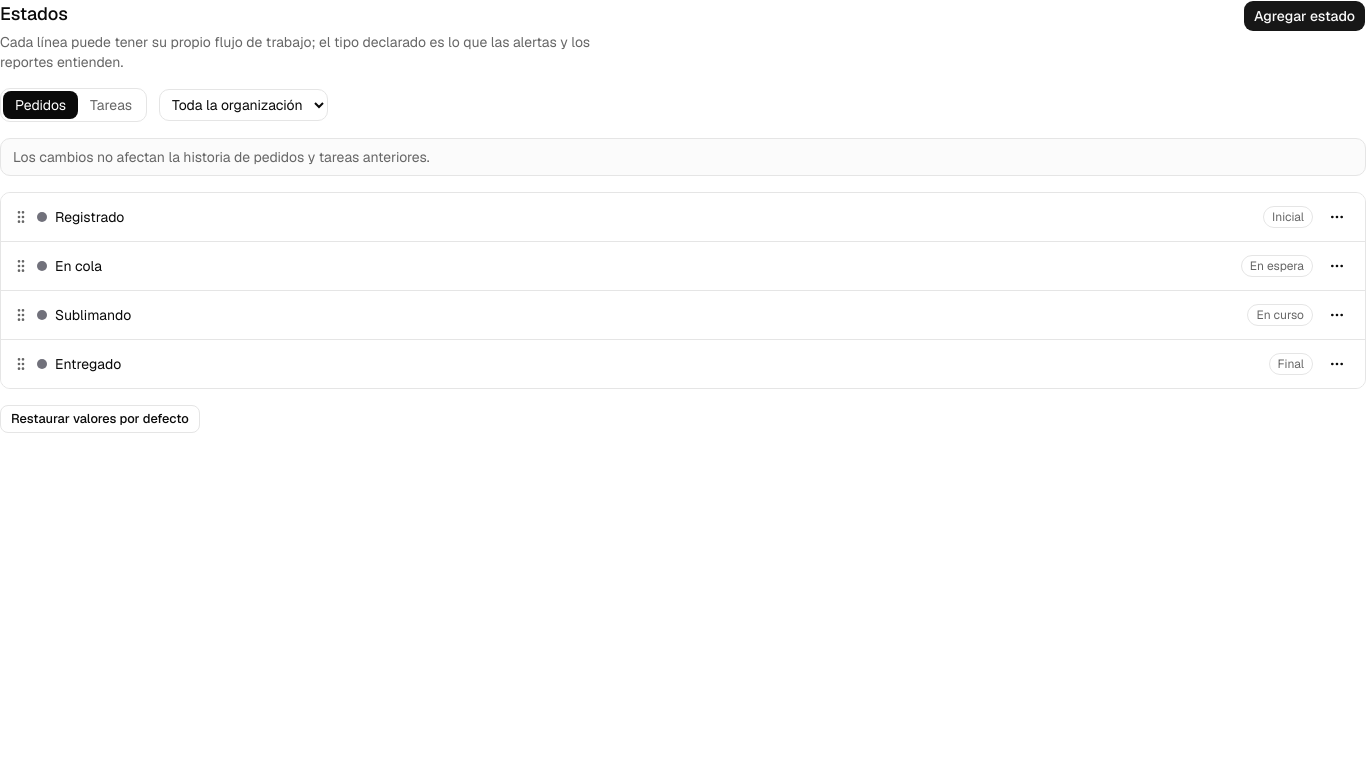
Scenario: StatusesSection · editar y agregar en un diálogo › «Editar» abre el diálogo con sus valores y «Guardar cambios» lo actualiza
This screenshot has width=1366, height=768.
Click the button named "Acciones de En cola" at (1337, 266), box [1321,250,1353,282]
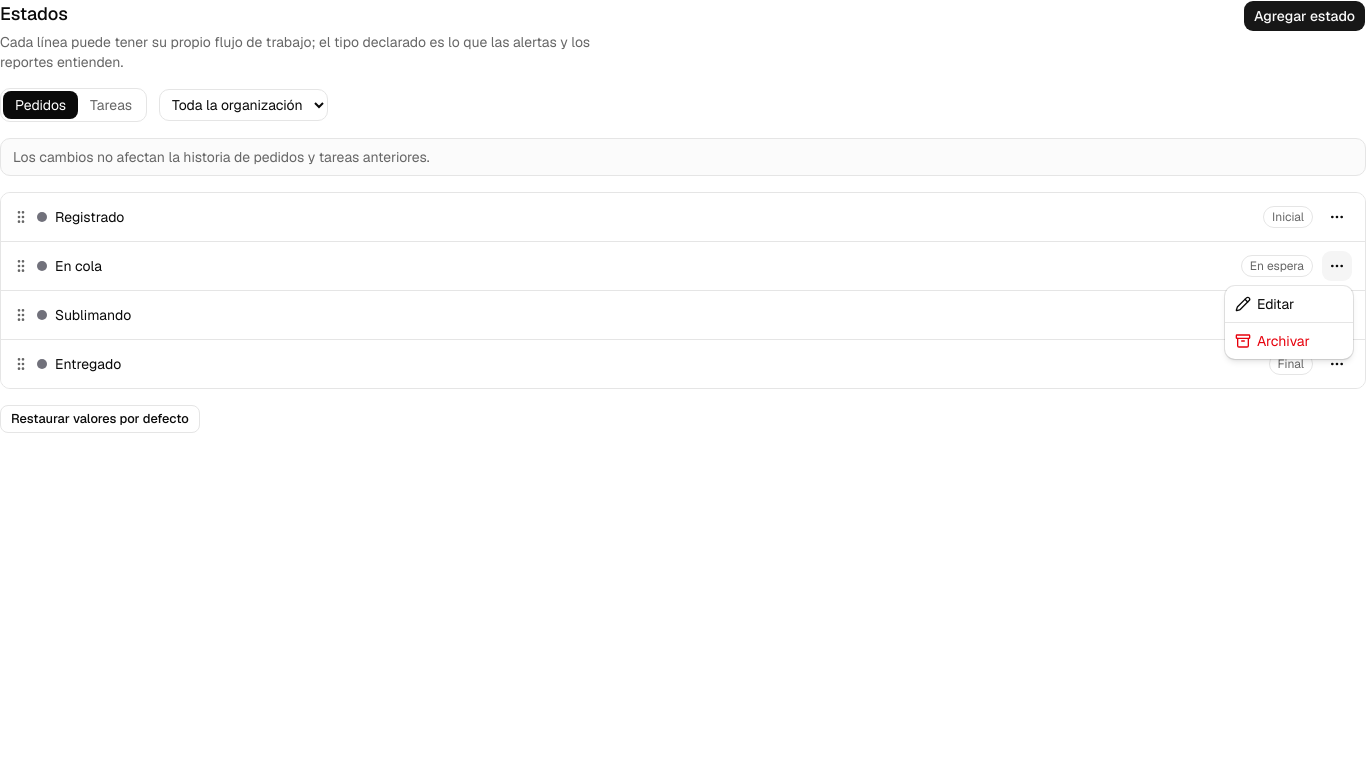
Click the menu item "Editar" at (1265, 304), box [1235,295,1294,313]
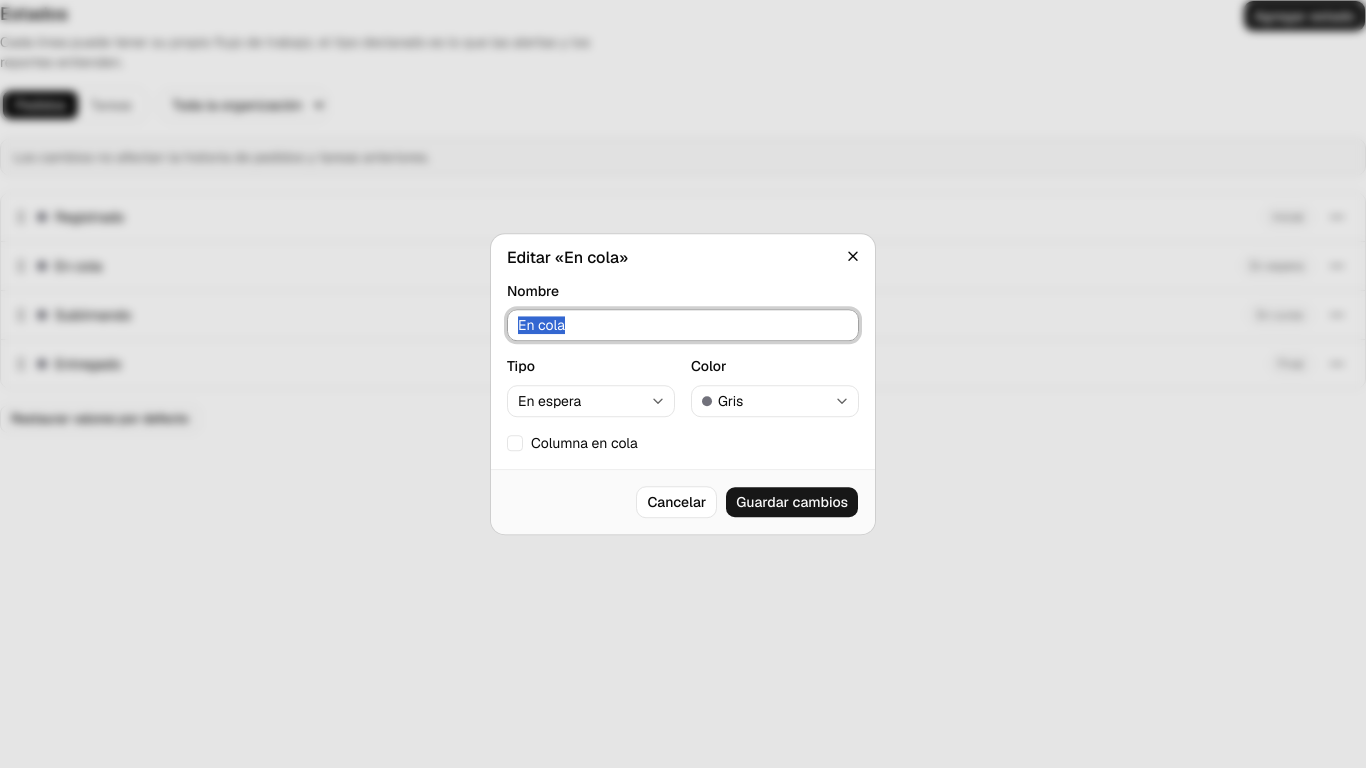
Now the field labelled "Nombre" holds "En cola"
Now the dropdown named "Tipo" reads "En espera", box [507,385,675,417]
Replace the text in the field labelled "Nombre" with "En cola de impresión" at (683, 326), box [507,310,859,342]
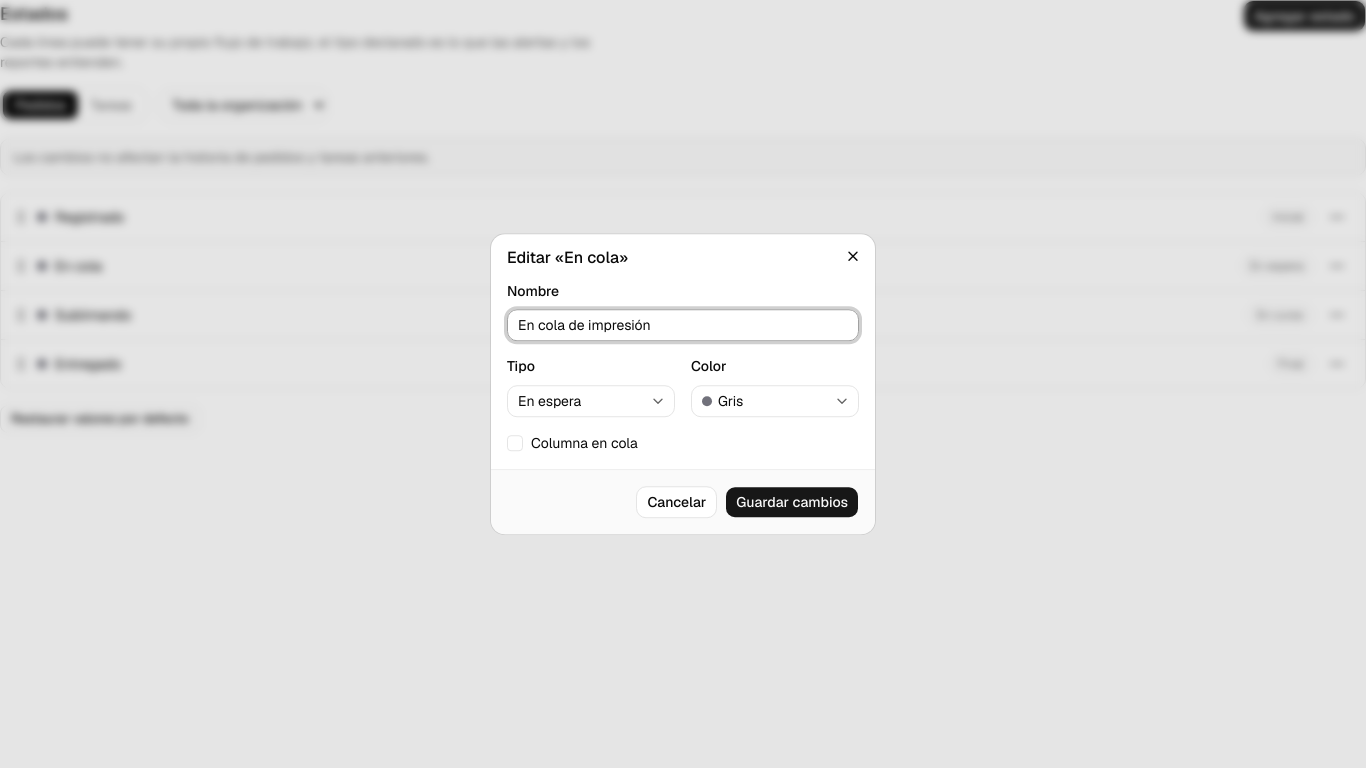
Click the checkbox named "Columna en cola" at (515, 443), box [507,435,523,451]
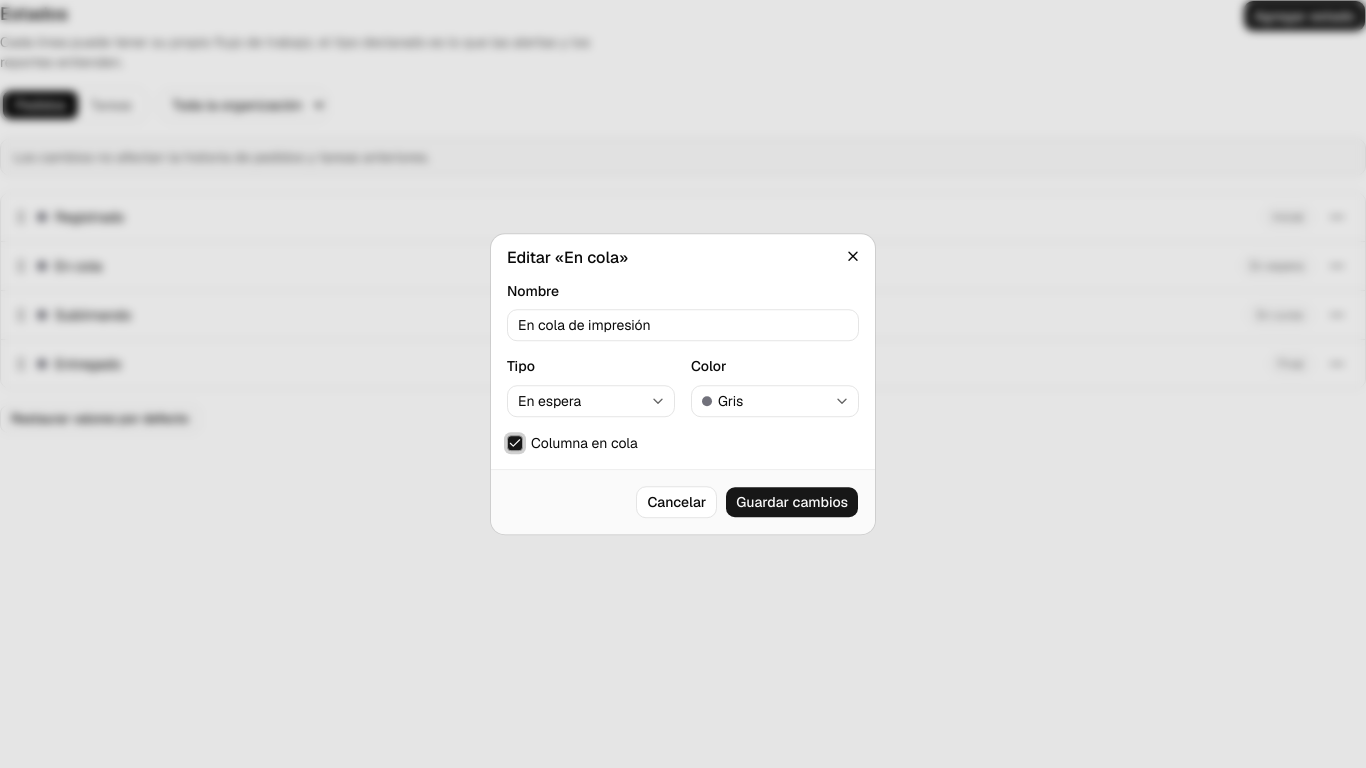
Click the button "Guardar cambios" at (792, 502), box [725,486,859,518]
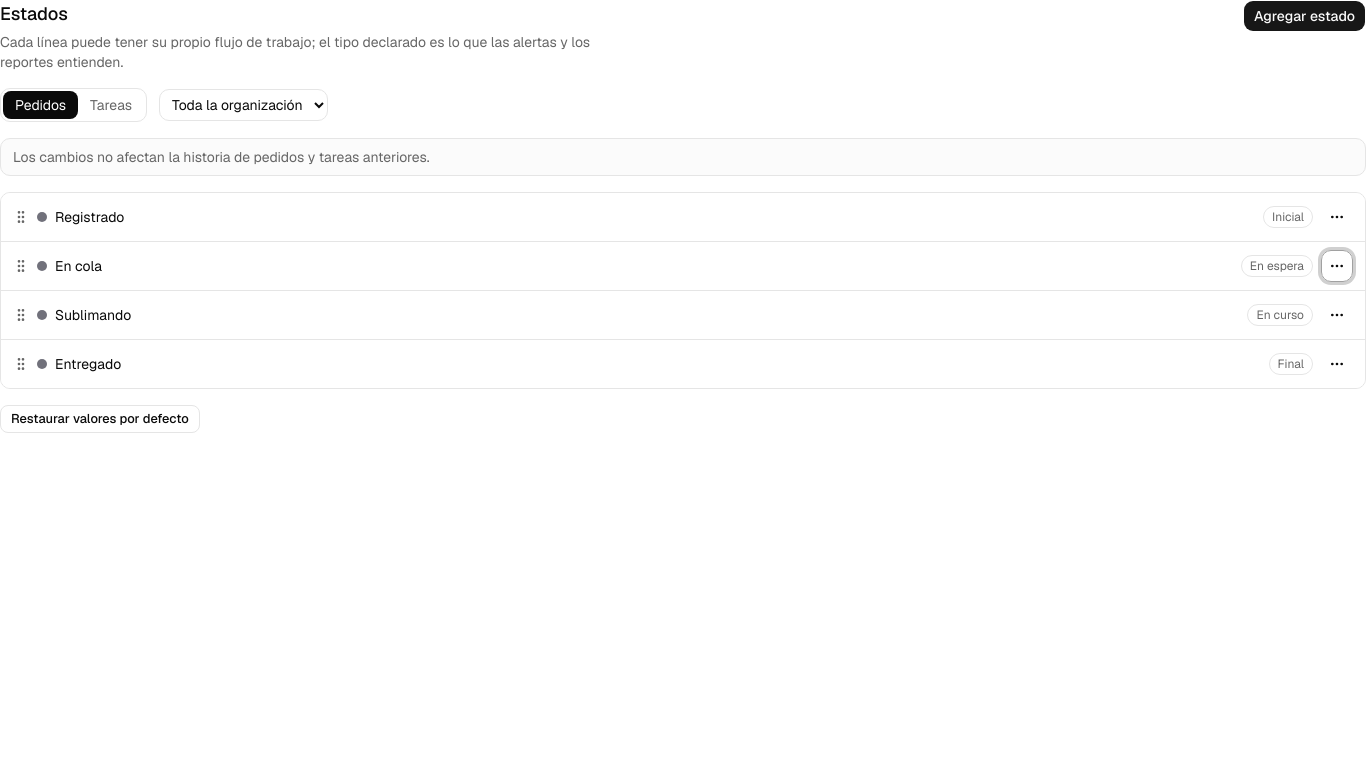
Now the dialog is gone
